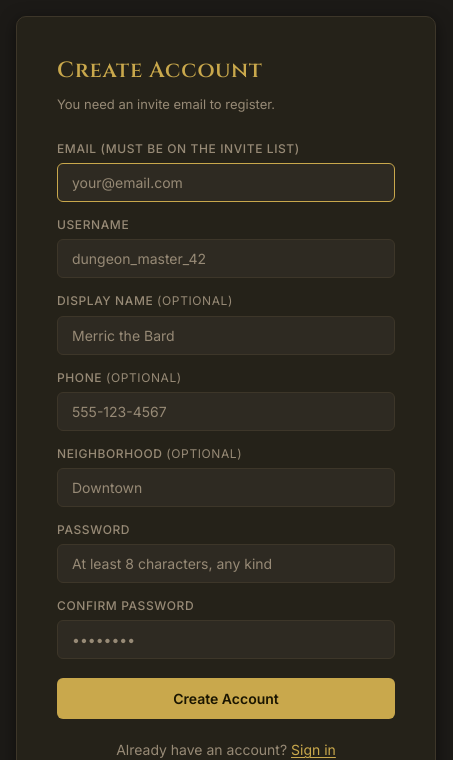
Test: RegisterPage — when problems are pointed out › on Create Account, shows every problem and sends nothing
What coordinates should you click on to do the following:
click the button "Create Account"
I would click on:
 (226, 699)
Its box is [57,678,395,719].
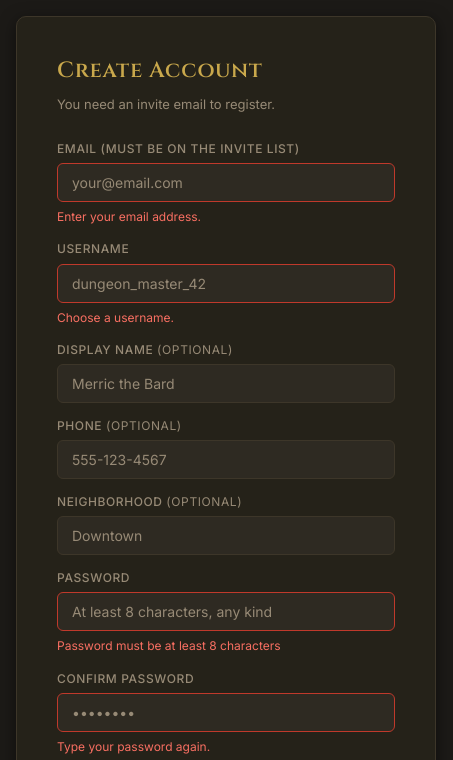
Check: the message "Enter your email address." is shown, box [57,209,201,224]
Check: the message "Type your password again." is shown, box [57,739,210,754]
